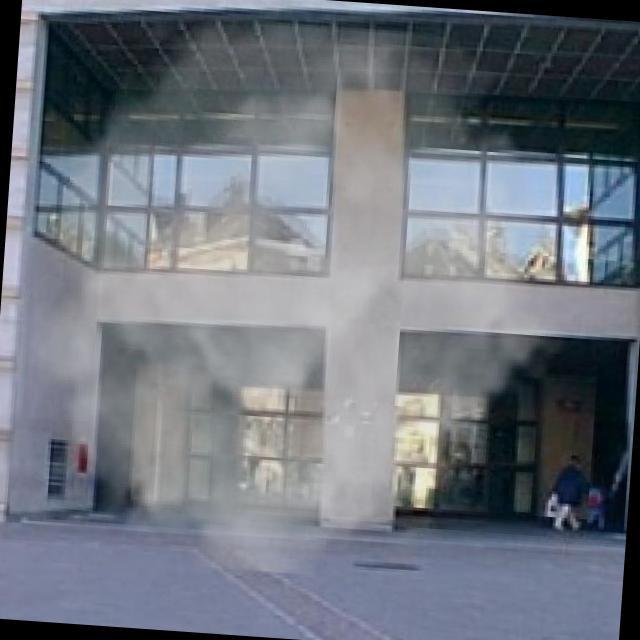Smoke: (0, 5, 589, 591)
